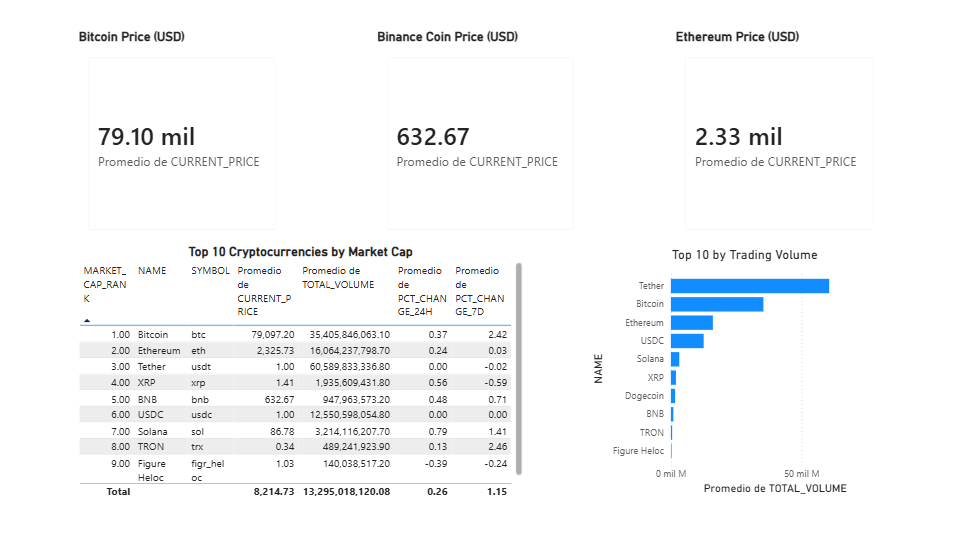

The dashboard page shown, as its layout file describes it:
{"tool":"powerbi","page":{"name":"Market Overview","canvas":[1280,720],"ordinal":0},"visuals":[{"type":"cardVisual","title":"Binance Coin Price (USD)","fields":{"Data":["Avg(VW_GOLD_GLOBAL_SUMMARY.CURRENT_PRICE)"]},"box":[500,43.6,279.5,279.5],"z":0},{"type":"cardVisual","title":"Ethereum Price (USD)","fields":{"Data":["Avg(VW_GOLD_MARKET_DASHBOARD.CURRENT_PRICE)"]},"box":[889.7,43.6,279.5,279.5],"z":1000},{"type":"cardVisual","title":"Bitcoin Price (USD)","fields":{"Data":["Avg(VW_GOLD_MARKET_DASHBOARD.CURRENT_PRICE)"]},"box":[110.3,43.6,279.5,279.5],"z":2000},{"type":"tableEx","title":"Top 10 Cryptocurrencies by Market Cap","fields":{"Values":["VW_GOLD_MARKET_DASHBOARD.MARKET_CAP_RANK","VW_GOLD_MARKET_DASHBOARD.NAME","VW_GOLD_MARKET_DASHBOARD.SYMBOL","Avg(VW_GOLD_MARKET_DASHBOARD.CURRENT_PRICE)","Avg(VW_GOLD_MARKET_DASHBOARD.TOTAL_VOLUME)","Avg(VW_GOLD_MARKET_DASHBOARD.PCT_CHANGE_24H)","Avg(VW_GOLD_MARKET_DASHBOARD.PCT_CHANGE_7D)"]},"box":[110.3,323.1,589.7,338.5],"z":3000},{"type":"clusteredBarChart","title":"Top 10 by Trading Volume","fields":{"Category":["VW_GOLD_GLOBAL_SUMMARY.NAME"],"Y":["Avg(VW_GOLD_GLOBAL_SUMMARY.TOTAL_VOLUME)"]},"box":[779.5,328.2,410.3,328.2],"z":4000}]}

Visuals, with their boxes in screenshot pixels (x1, y1, x2, y2), scaled from the page's 1280x720 canvas onto the 954x535 screenshot:
"Binance Coin Price (USD)" cardVisual: 373,32,581,240
"Ethereum Price (USD)" cardVisual: 663,32,871,240
"Bitcoin Price (USD)" cardVisual: 82,32,291,240
"Top 10 Cryptocurrencies by Market Cap" tableEx: 82,240,522,492
"Top 10 by Trading Volume" clusteredBarChart: 581,244,887,488
